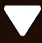dialog_hint_inverted: (3, 4, 42, 37)
